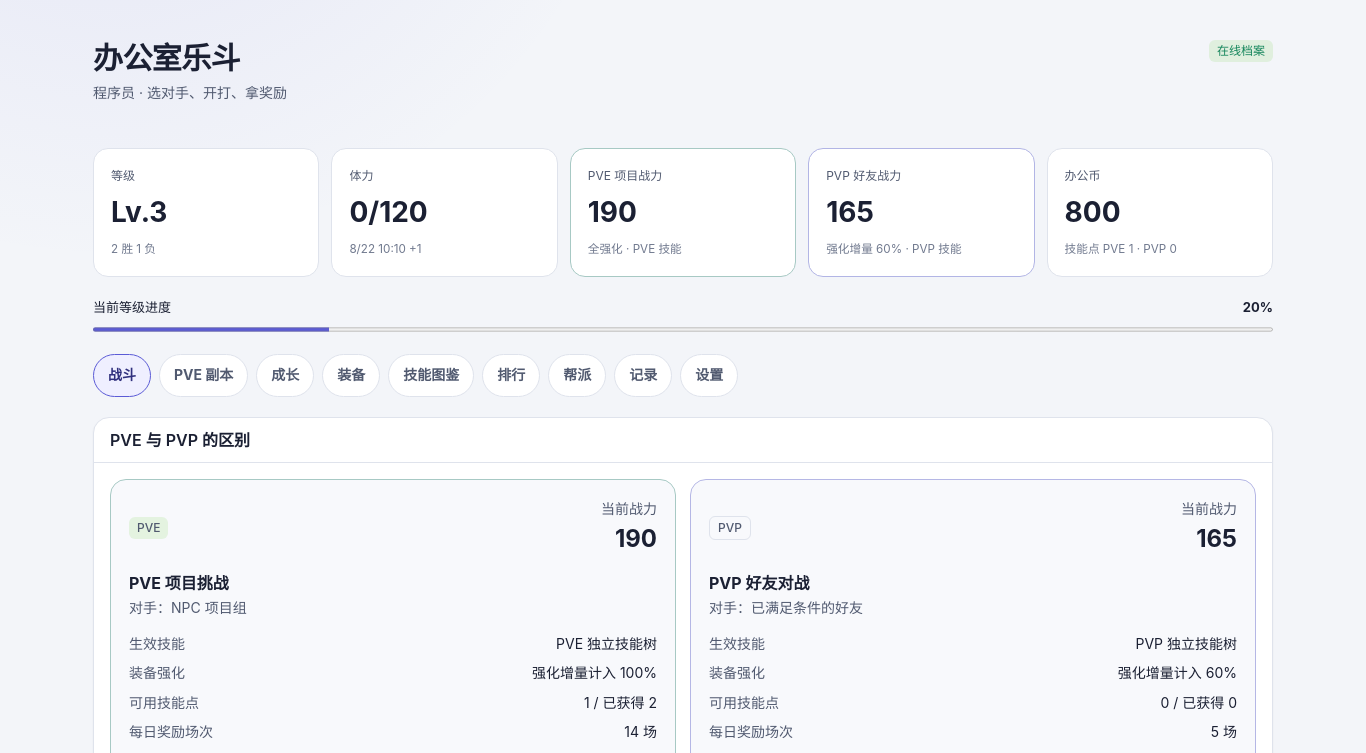
Test: CommunityBattlePage formal archive › shows the profession skill tree and persists a versioned upgrade
Click the tab "技能图鉴" at [431, 376], box [388,354,474,397]
(page scrolled)
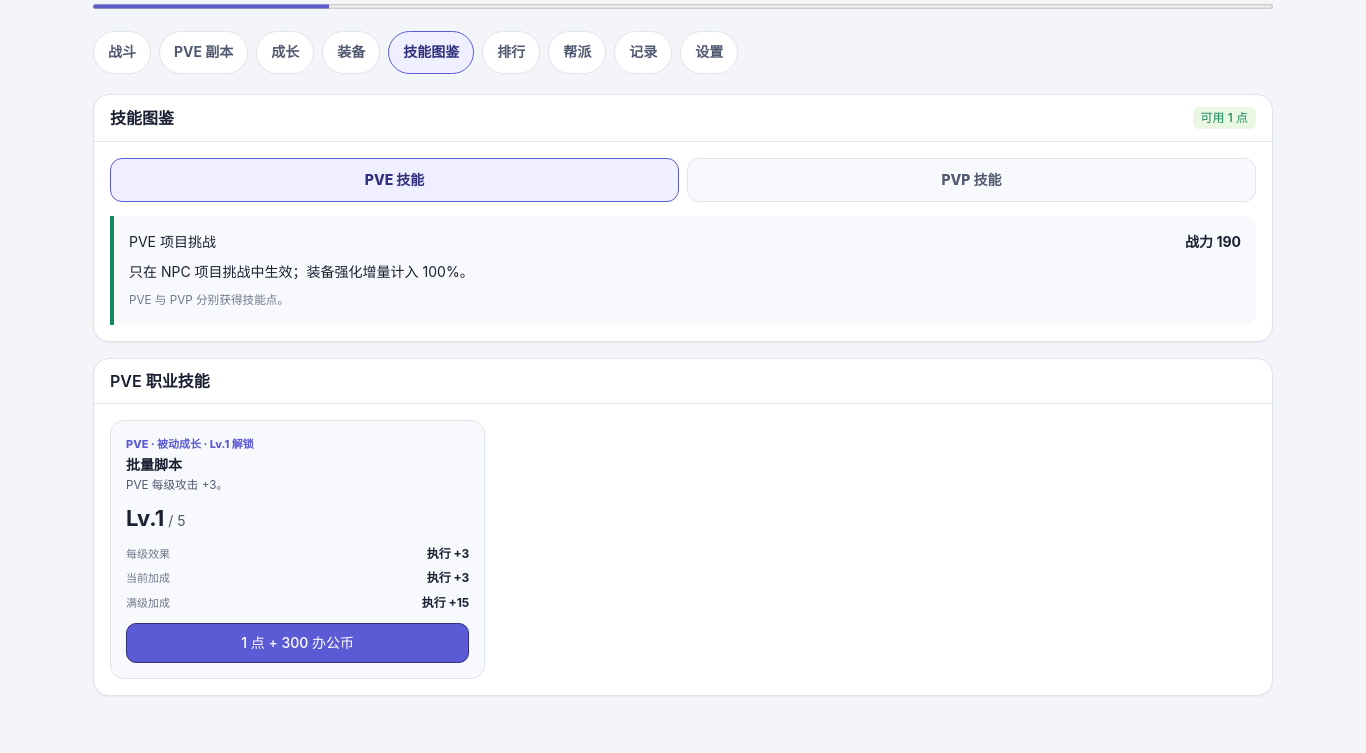
expect the text "批量脚本" is shown: met, box [126,456,182,472]
Click the button "1 点 + 300 办公币" at [298, 642], box [126,622,469,662]
(page scrolled)
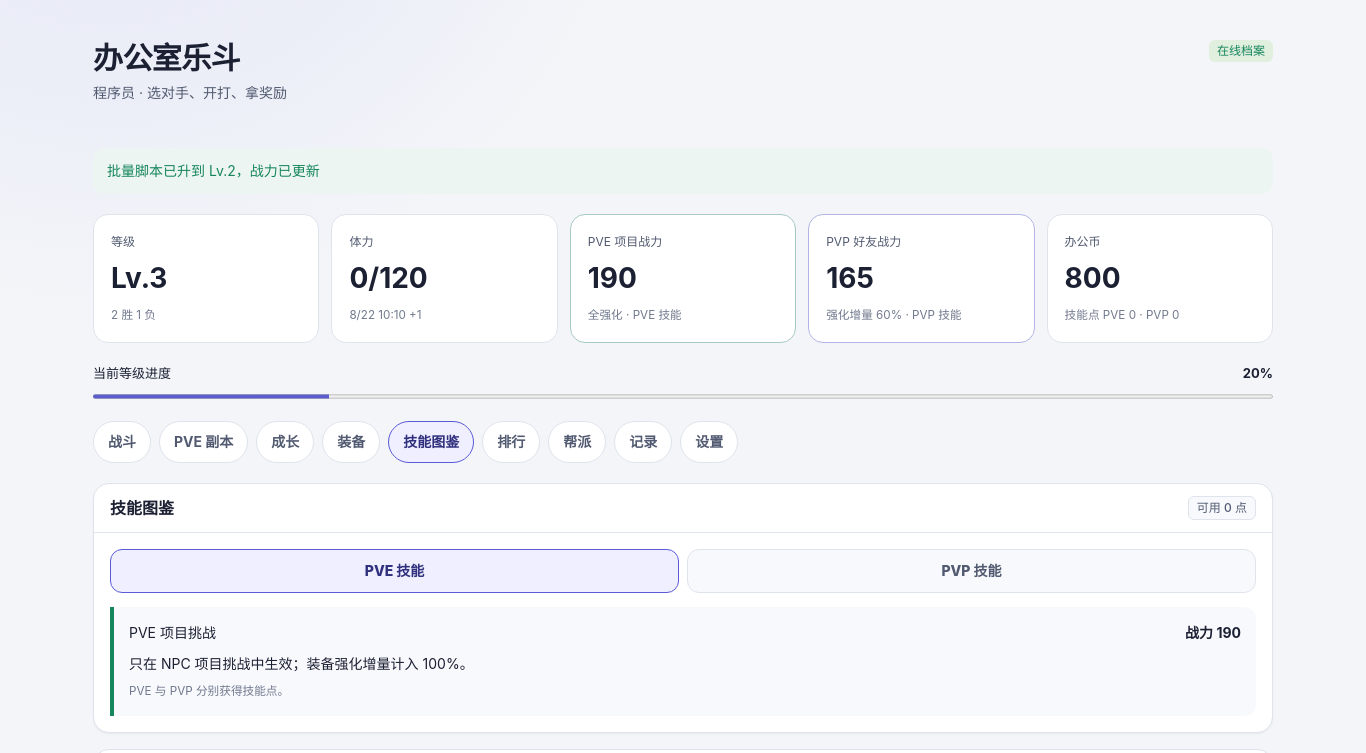
expect the text "批量脚本已升到 Lv.2，战力已更新" is shown: met, box [93,148,1273,194]
